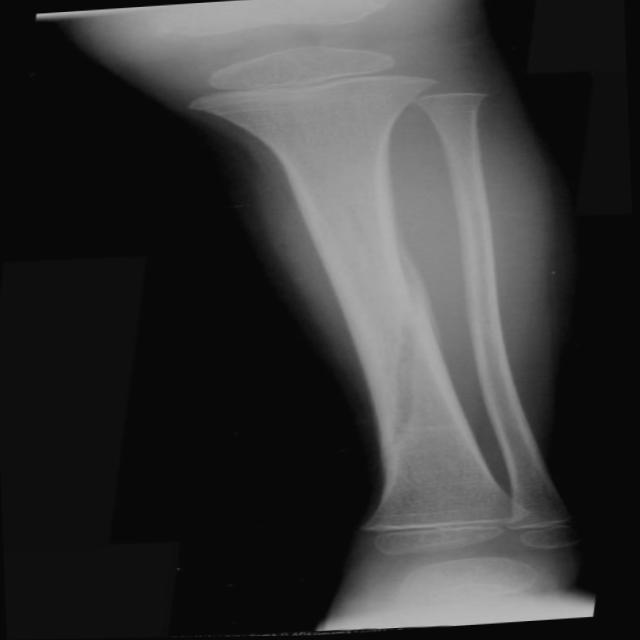Oblique Displaced: (301, 274, 461, 457)
